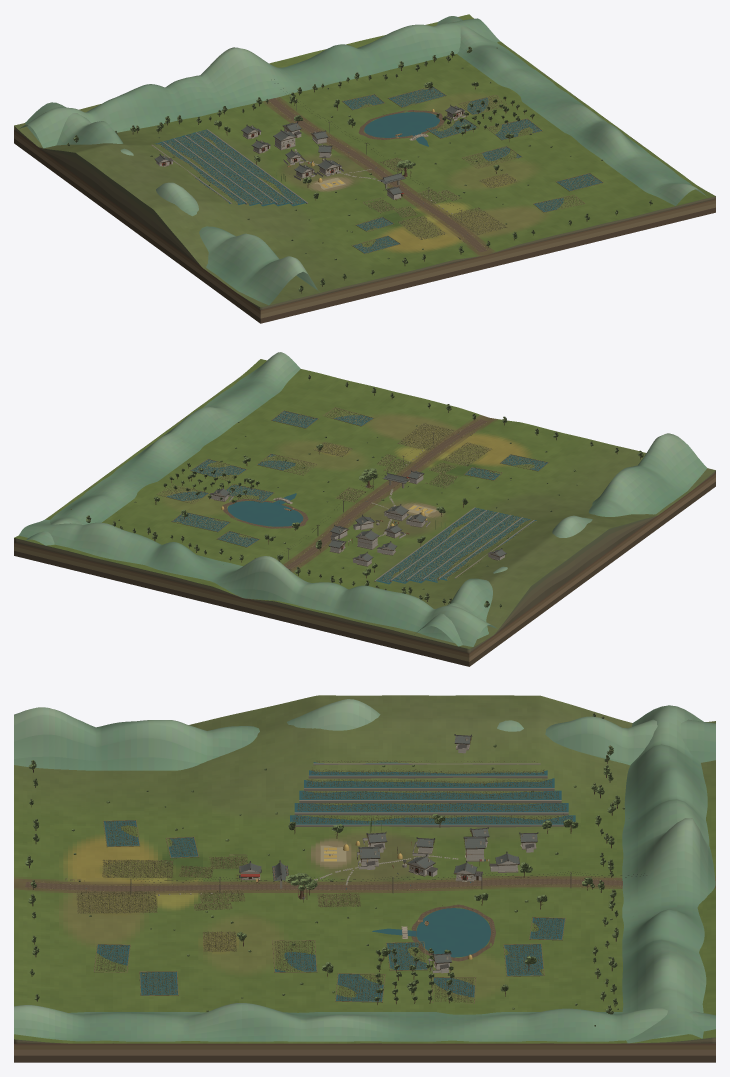
Rendered from rural.glb.
3 renders of one model, top to bottom at view 1: azimuth 30°, elevation 25°; view 2: azimuth 150°, elevation 25°; view 3: azimuth 270°, elevation 25°, orthographic. The views are drawn at different scales.
Visible parts, largest first — view 1: Rural_Rural_Ground_PBR, Rural_Mountain, Rural_Harvest_panicles, Rural_Matte.001, Rural_Branch_foliage, Rural_Rural_Dirt_PBR, Rural_Stone, Rural_Rough, Rural_Matte, Water_Pond, Rural_Rural_Grey_Tile_PBR, Rural_Rural_Limewash_PBR (+5 smaller); view 2: Rural_Rural_Ground_PBR, Rural_Mountain, Rural_Harvest_panicles, Rural_Matte.001, Rural_Branch_foliage, Rural_Rural_Dirt_PBR, Rural_Stone, Rural_Rough, Rural_Matte, Water_Pond, Rural_Rural_Limewash_PBR, Rural_Rural_Grey_Tile_PBR (+5 smaller); view 3: Rural_Rural_Ground_PBR, Rural_Mountain, Rural_Harvest_panicles, Rural_Matte.001, Rural_Stone, Rural_Branch_foliage, Rural_Rural_Dirt_PBR, Rural_Matte, Water_Pond, Water_Terrace.001, Rural_Rough, Rural_Rural_Grey_Tile_PBR (+11 smaller).
Boxes of the visible parts, x1,y1,x2,y2 form: Rural_Rural_Ground_PBR: (14,14,715,310); Rural_Mountain: (19,16,707,305); Rural_Harvest_panicles: (151,87,600,252); Rural_Matte.001: (14,73,715,323); Rural_Branch_foliage: (67,46,652,291); Rural_Rural_Dirt_PBR: (268,98,487,252); Rural_Stone: (151,115,462,213); Rural_Rough: (270,86,603,253); Rural_Matte: (76,47,650,293); Water_Pond: (364,112,439,137); Rural_Rural_Grey_Tile_PBR: (155,106,463,194); Rural_Rural_Limewash_PBR: (156,110,467,198); Rural_Rural_Ground_PBR: (14,359,715,653); Rural_Mountain: (19,352,706,646); Rural_Harvest_panicles: (158,408,546,582); Rural_Matte.001: (14,418,715,666); Rural_Branch_foliage: (70,375,643,607); Rural_Rural_Dirt_PBR: (222,419,487,569); Rural_Stone: (213,450,534,581); Rural_Rough: (156,407,548,569); Rural_Matte: (71,376,640,607); Water_Pond: (227,501,303,526); Rural_Rural_Limewash_PBR: (210,474,504,565); Rural_Rural_Grey_Tile_PBR: (213,471,506,560); Rural_Rural_Ground_PBR: (14,695,715,1043); Rural_Mountain: (14,699,715,1043); Rural_Harvest_panicles: (76,760,572,1002); Rural_Matte.001: (14,1043,715,1062); Rural_Stone: (158,744,570,969); Rural_Branch_foliage: (25,713,625,1026); Rural_Rural_Dirt_PBR: (25,879,622,961); Rural_Matte: (28,713,646,1013); Water_Pond: (416,908,490,957); Water_Terrace.001: (294,803,568,812); Rural_Rough: (29,819,622,1003); Rural_Rural_Grey_Tile_PBR: (239,735,537,962).
Bounding box in the file's own units: 320 × 34.29 × 300.
Materials: 23 (10 with a texture image).
